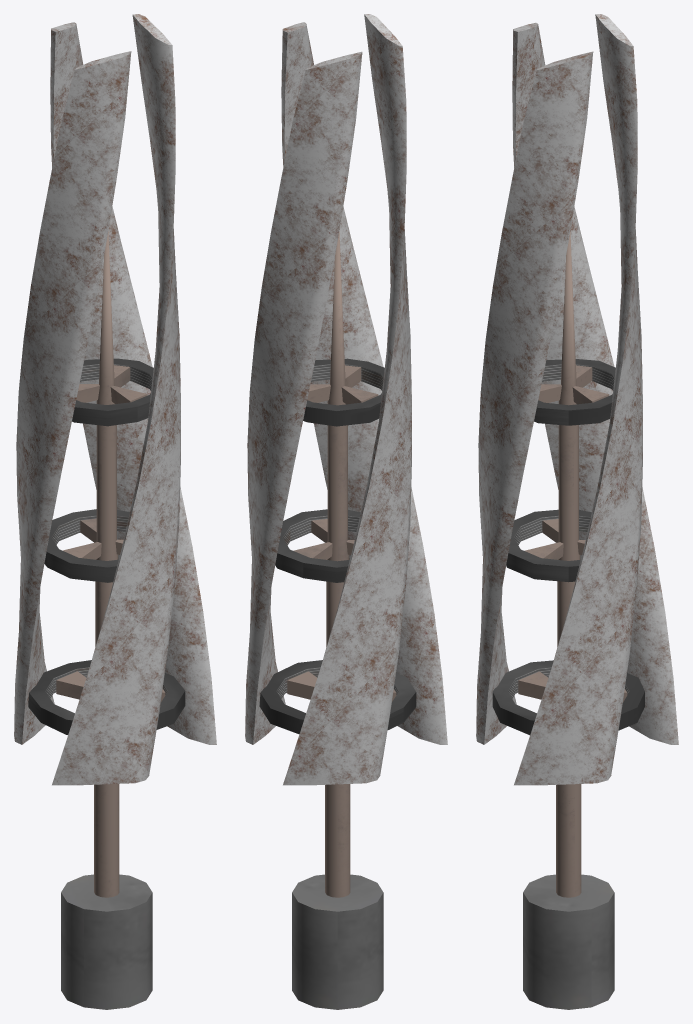
The model's file is WindGenerator.fbx.
3 renders of one model, left to right at view 1: azimuth 30°, elevation 25°; view 2: azimuth 150°, elevation 25°; view 3: azimuth 270°, elevation 25°, orthographic.
Visible parts, largest first — view 1: WindGeneratorBlades, WindGenerator; view 2: WindGeneratorBlades, WindGenerator; view 3: WindGeneratorBlades, WindGenerator.
Part boxes in pixels (<box>): WindGeneratorBlades: <box>14,14,216,785</box>; WindGenerator: <box>56,231,165,1009</box>; WindGeneratorBlades: <box>245,14,447,785</box>; WindGenerator: <box>287,232,396,1009</box>; WindGeneratorBlades: <box>476,14,678,785</box>; WindGenerator: <box>518,232,627,1009</box>.
Bounding box in the file's own units: 23944 × 23207 × 124850.
3 materials, 3 textured.
